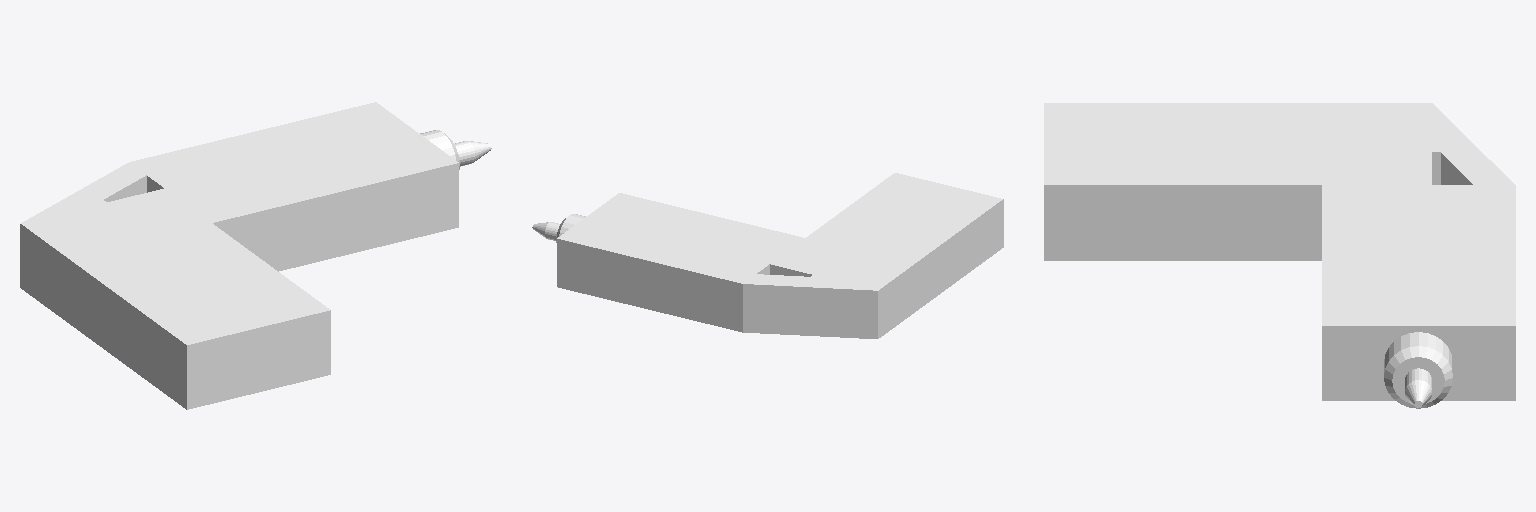
URDF robot description (drill.obj):
<robot name="drill.obj">
	<link name="_name">
		<visual>
			<origin xyz="-0.07903829137640184 -0.10262412169602603 -0.015000000000000005" rpy="0 0 0" />
			<geometry>
				<mesh filename="drill.obj" scale="0.001 0.001 0.001" />
			</geometry>
			<material name="texture">
				<color rgba="1.0 1.0 1.0 1.0" />
			</material>
		</visual>
		<collision>
			<geometry>
				<mesh filename="drill_vhacd.obj" scale="0.001 0.001 0.001" />
			</geometry>
		<origin xyz="-0.07903829137640184 -0.10262412169602603 -0.015000000000000005" rpy="0 0 0" /></collision>
		<inertial>
			<mass value="0.3" />
			<inertia ixx="0.6" ixy="0.0" ixz="0.0" iyy="0.5" iyz="-0.0" izz="0.08" />
		</inertial>
	</link>
</robot>

--- Render facts (derived) ---
3 views of the same robot in one strip: view 1: azimuth 30°, elevation 25°; view 2: azimuth 150°, elevation 25°; view 3: azimuth 270°, elevation 25° (orthographic).
Model drill.obj with 1 links and 0 joints (none), rooted at _name, posed all joints at 0.
Links seen in each view (by area): view 1: _name; view 2: _name; view 3: _name.
Boxes of the visible links, x1,y1,x2,y2 form: _name: (20, 102, 491, 409); _name: (532, 173, 1003, 338); _name: (1044, 103, 1515, 408).
Bounding box of the posed robot: 0.225 × 0.17 × 0.03 m (x, y, z).
1 mesh visuals loaded from 1 distinct referenced files (1 OBJ).